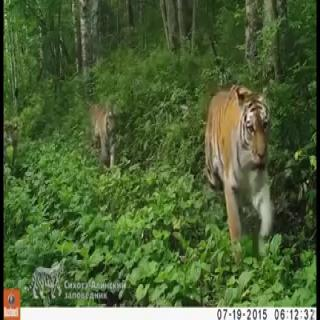Tiger: (199, 74, 278, 254), (85, 90, 122, 177)
